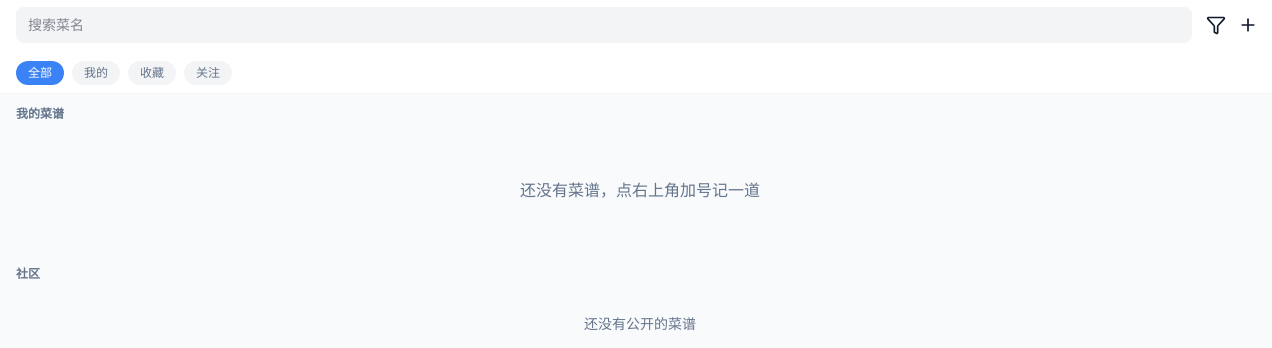
Scenario: RecipeList › 登录态没有自有菜谱时，「收藏」仍渲染收藏的社区菜谱
The image size is (1272, 348).
Click the button with test id "tab-fav" at (152, 73), box [128,61,176,85]
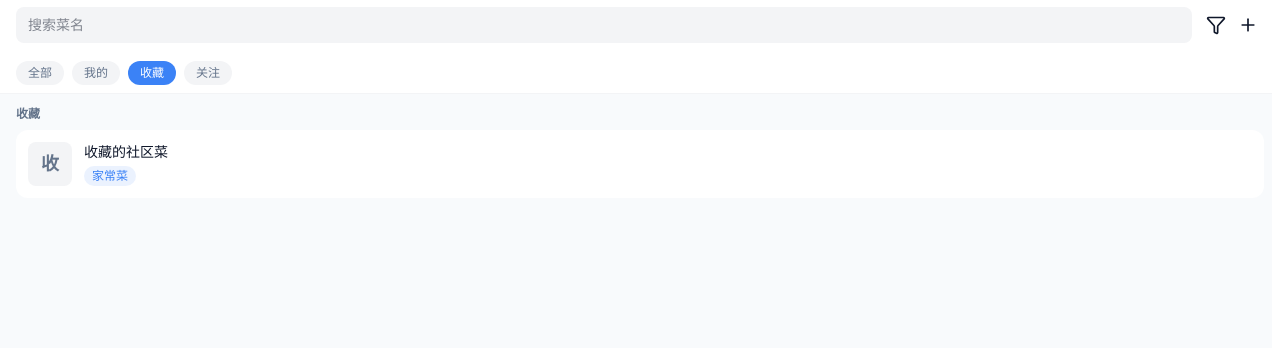
Expected: the text with test id "my-recipes" no longer shows "还没有菜谱"
